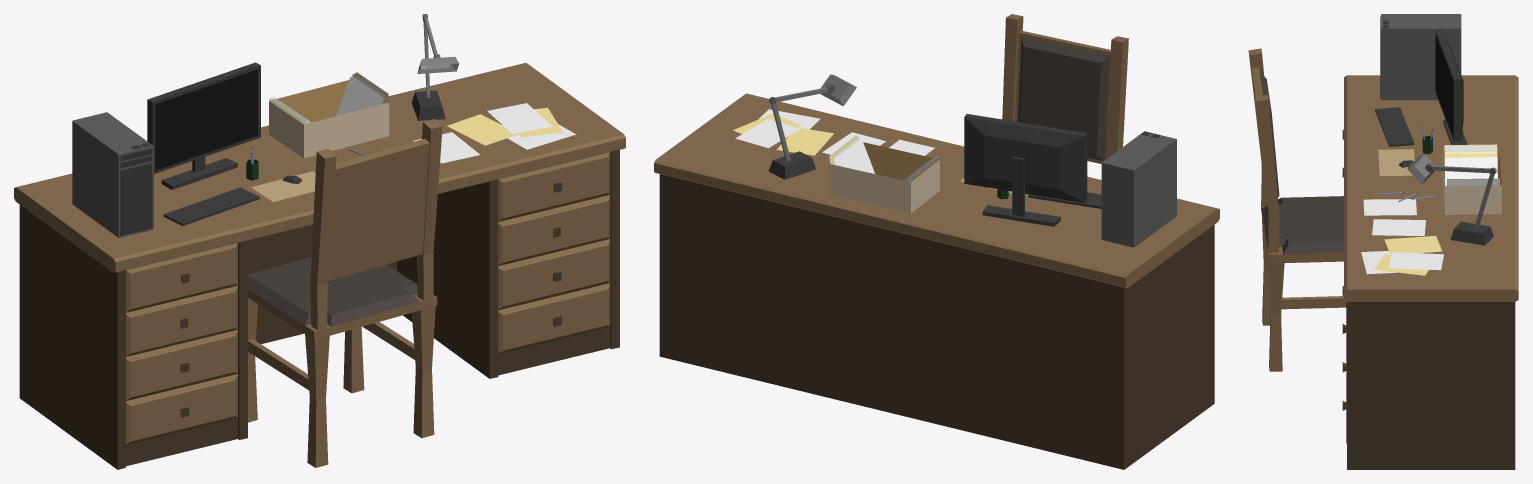
Rendered from DetectiveDesk1.glb.
The picture shows the model from 3 angles, left to right: view 1: azimuth 30°, elevation 25°; view 2: azimuth 150°, elevation 25°; view 3: azimuth 270°, elevation 25°; orthographic projection. The views are drawn at different scales.
Visible parts, largest first — view 1: DetectiveDesk, BasicChair; view 2: DetectiveDesk, BasicChair; view 3: DetectiveDesk, BasicChair.
Boxes of the visible parts, left/top/right/bottom form: DetectiveDesk: left=14, top=14, right=625, bottom=469; BasicChair: left=248, top=119, right=442, bottom=467; DetectiveDesk: left=654, top=74, right=1219, bottom=469; BasicChair: left=1002, top=14, right=1128, bottom=163; DetectiveDesk: left=1342, top=14, right=1518, bottom=469; BasicChair: left=1248, top=48, right=1346, bottom=371.
Bounding box in the file's own units: 2.16 × 1.29 × 1.15.
Materials: 1 (1 with a texture image).
